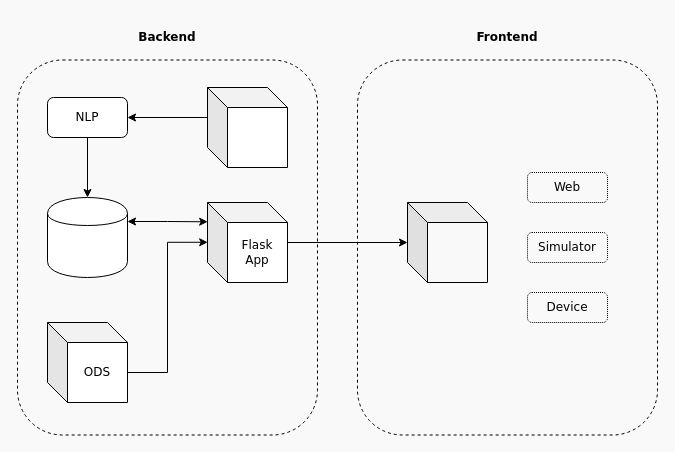
This 675x452 diagram has some shape labels left out. The shapes that lost their labels are listed below. From the top down, each one's centre as x and y in pixels, then its label:
At point 247,127: "Web Scraper".
At point 87,237: "Database".
At point 447,242: "Expo Client".
